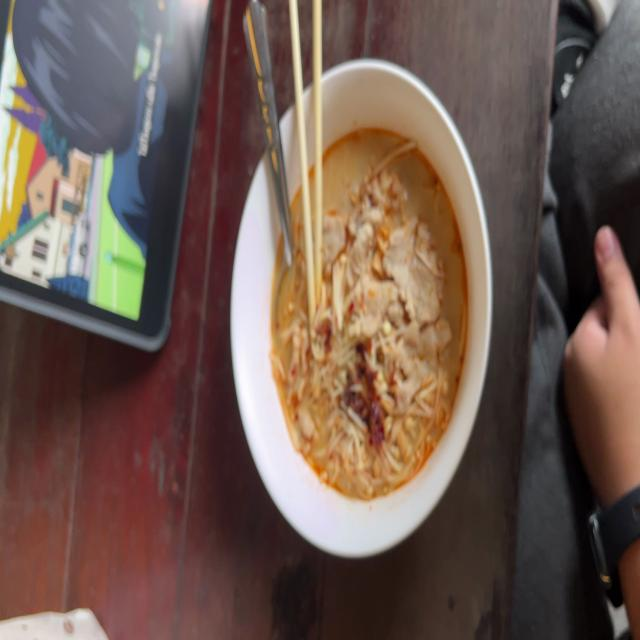noodle: (245, 86, 498, 526)
